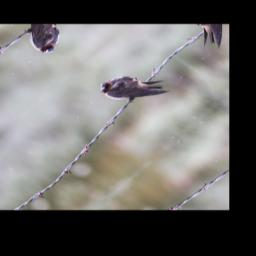Swallow: (94, 56, 176, 119)
